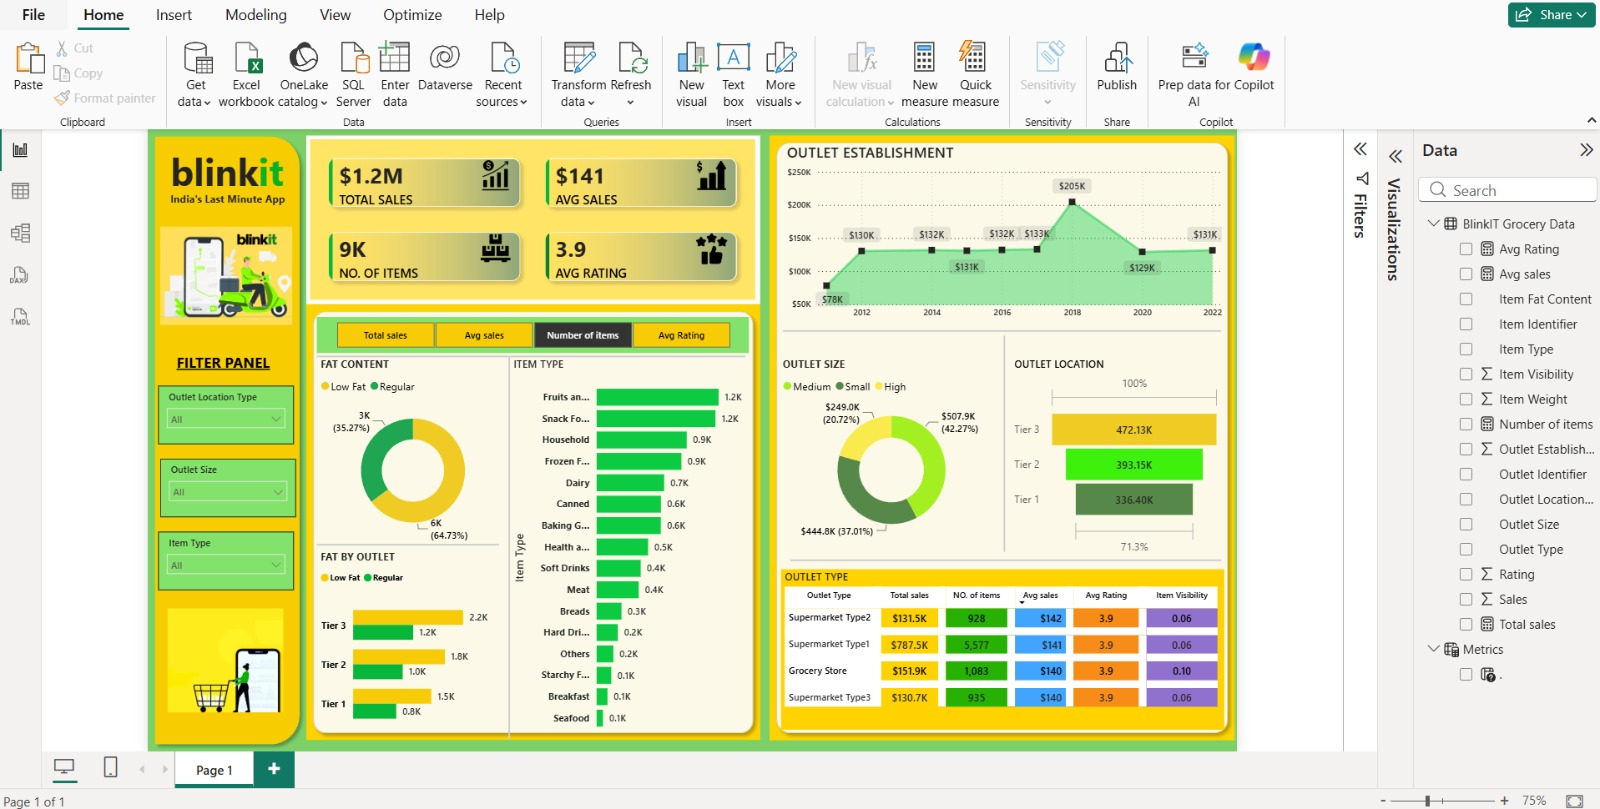

The dashboard page shown, as its layout file describes it:
{"tool":"powerbi","page":{"name":"Page 1","canvas":[1400,800],"ordinal":0},"visuals":[{"type":"shape","box":[0,0,204.1,800],"z":0},{"type":"textbox","box":[24,16.5,180.1,76.5],"z":1000},{"type":"textbox","box":[24,75,163.6,36],"z":2000},{"type":"cardVisual","fields":{"Data":["BlinkIT Grocery Data.Total sales","BlinkIT Grocery Data.Avg sales","BlinkIT Grocery Data.Number of items","BlinkIT Grocery Data.Avg Rating"]},"box":[203.8,8,583.1,217.2],"z":3000},{"type":"shape","box":[203.8,225.2,583.1,560.3],"z":4000},{"type":"donutChart","title":"FAT CONTENT","fields":{"Y":["BlinkIT Grocery Data.Total sales"],"Category":["BlinkIT Grocery Data.Item Fat Content"]},"box":[217.6,292.7,247.6,246.1],"z":5000},{"type":"slicer","fields":{"Values":["Metrics.Metrics"]},"box":[217.6,241.6,555.3,46.5],"z":6000},{"type":"clusteredBarChart","title":"FAT BY OUTLET","fields":{"Y":["BlinkIT Grocery Data.Total sales"],"Category":["BlinkIT Grocery Data.Outlet Location Type"],"Series":["BlinkIT Grocery Data.Item Fat Content"]},"box":[217.6,540.3,247.6,244.6],"z":7000},{"type":"shape","box":[217.6,502.8,234.1,63],"z":8000},{"type":"shape","box":[451.8,292.7,25.5,492.3],"z":9000},{"type":"barChart","title":"ITEM TYPE","fields":{"Y":["BlinkIT Grocery Data.Total sales"],"Category":["BlinkIT Grocery Data.Item Type"]},"box":[465.3,292.7,307.7,492.3],"z":10000},{"type":"shape","box":[798.9,8,597.9,777.5],"z":11000},{"type":"lineChart","title":"OUTLET ESTABLISHMENT ","fields":{"Category":["BlinkIT Grocery Data.Outlet Establishment Year"],"Y":["BlinkIT Grocery Data.Total sales"]},"box":[816.5,16.5,568.8,237.1],"z":12000},{"type":"shape","box":[816.5,253.6,562.8,12],"z":13000},{"type":"donutChart","title":"OUTLET SIZE","fields":{"Y":["BlinkIT Grocery Data.Total sales"],"Category":["BlinkIT Grocery Data.Outlet Size"]},"box":[810.5,292.7,289.7,244.6],"z":14000},{"type":"shape","box":[1098.6,265.7,3,277.7],"z":15000},{"type":"funnel","title":"OUTLET LOCATION","fields":{"Y":["Sum(BlinkIT Grocery Data.Sales)"],"Category":["BlinkIT Grocery Data.Outlet Location Type"]},"box":[1108.6,292.2,274.8,260.1],"z":16000},{"type":"shape","box":[825.5,543.3,553.8,22.5],"z":17000},{"type":"pivotTable","title":"OUTLET TYPE","fields":{"Rows":["BlinkIT Grocery Data.Outlet Type"],"Values":["BlinkIT Grocery Data.Total sales","BlinkIT Grocery Data.Number of items","BlinkIT Grocery Data.Avg sales","BlinkIT Grocery Data.Avg Rating","Avg(BlinkIT Grocery Data.Item Visibility)"]},"box":[813.7,565.7,569.7,198.4],"z":18000},{"type":"slicer","fields":{"Values":["BlinkIT Grocery Data.Outlet Location Type"]},"box":[16.1,329.8,171.6,75.1],"z":19000},{"type":"slicer","fields":{"Values":["BlinkIT Grocery Data.Outlet Size"]},"box":[16.1,423.6,170.2,75.1],"z":20000},{"type":"slicer","fields":{"Values":["BlinkIT Grocery Data.Item Type"]},"box":[16.1,517.4,170.2,75.1],"z":21000},{"type":"textbox","box":[31.5,282.2,139.6,43.5],"z":22000},{"type":"shape","box":[217.6,286.7,550.8,10.5],"z":23000},{"type":"image","box":[16.5,118.6,169.6,141.1],"z":24000},{"type":"image","box":[25.5,565.8,148.6,234.1],"z":25000}]}

Visuals, with their boxes on the page's 1400x800 design canvas (x1, y1, x2, y2). These are canvas units, not pixel positions in the 1600x809 screenshot, which may show the page scaled, cropped or inside an application window:
shape: select_region(0, 0, 204, 800)
textbox: select_region(24, 16, 204, 93)
textbox: select_region(24, 75, 188, 111)
cardVisual - BlinkIT Grocery Data.Total sales x BlinkIT Grocery Data.Avg sales: select_region(204, 8, 787, 225)
shape: select_region(204, 225, 787, 786)
"FAT CONTENT" donutChart: select_region(218, 293, 465, 539)
slicer - Metrics.Metrics: select_region(218, 242, 773, 288)
"FAT BY OUTLET" clusteredBarChart: select_region(218, 540, 465, 785)
shape: select_region(218, 503, 452, 566)
shape: select_region(452, 293, 477, 785)
"ITEM TYPE" barChart: select_region(465, 293, 773, 785)
shape: select_region(799, 8, 1397, 786)
"OUTLET ESTABLISHMENT " lineChart: select_region(816, 16, 1385, 254)
shape: select_region(816, 254, 1379, 266)
"OUTLET SIZE" donutChart: select_region(810, 293, 1100, 537)
shape: select_region(1099, 266, 1102, 543)
"OUTLET LOCATION" funnel: select_region(1109, 292, 1383, 552)
shape: select_region(826, 543, 1379, 566)
"OUTLET TYPE" pivotTable: select_region(814, 566, 1383, 764)
slicer - BlinkIT Grocery Data.Outlet Location Type: select_region(16, 330, 188, 405)
slicer - BlinkIT Grocery Data.Outlet Size: select_region(16, 424, 186, 499)
slicer - BlinkIT Grocery Data.Item Type: select_region(16, 517, 186, 592)
textbox: select_region(32, 282, 171, 326)
shape: select_region(218, 287, 768, 297)
image: select_region(16, 119, 186, 260)
image: select_region(26, 566, 174, 800)
